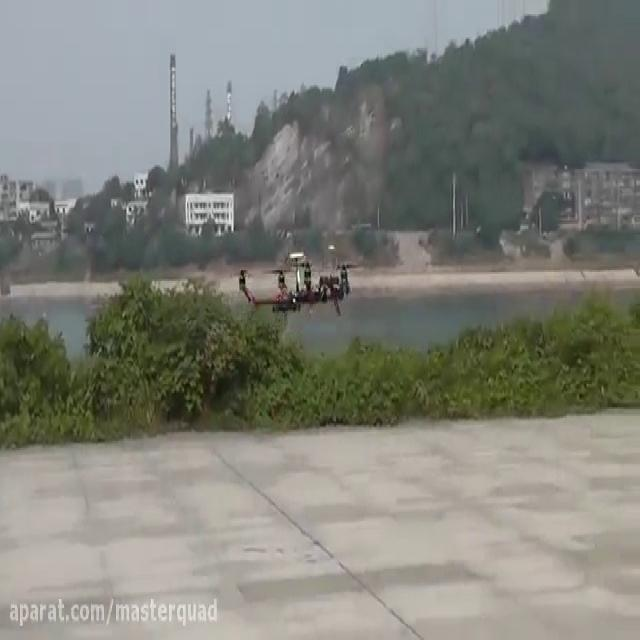drone: (235, 246, 360, 326)
